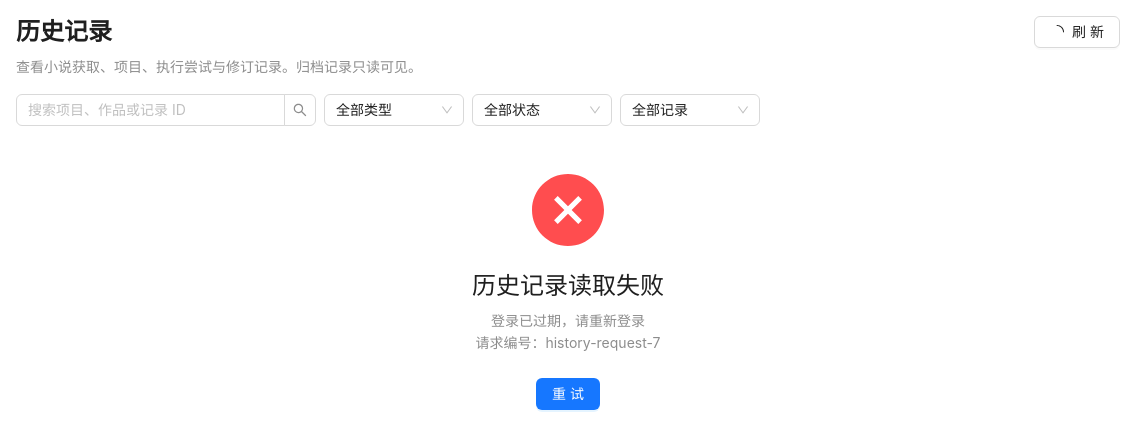
Scenario: HistoryPage › shows first-load HTTP 401 and request correlation with retry
The width and height of the screenshot is (1137, 429).
Expected: the text "登录已过期，请重新登录" is shown, [491,312,645,329]
Expected: the text "请求编号：history-request-7" is shown, [475,334,660,351]
Click the button "重 试" at (568, 394), box [536,378,600,410]
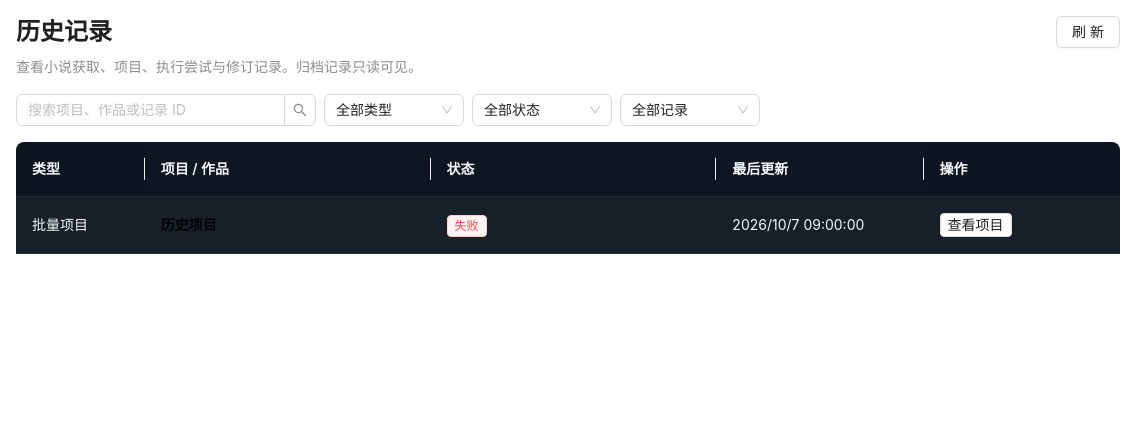
Expected: the link "查看项目" is shown, [940,213,1012,237]
